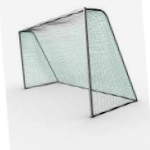goals: (16, 4, 139, 120)
